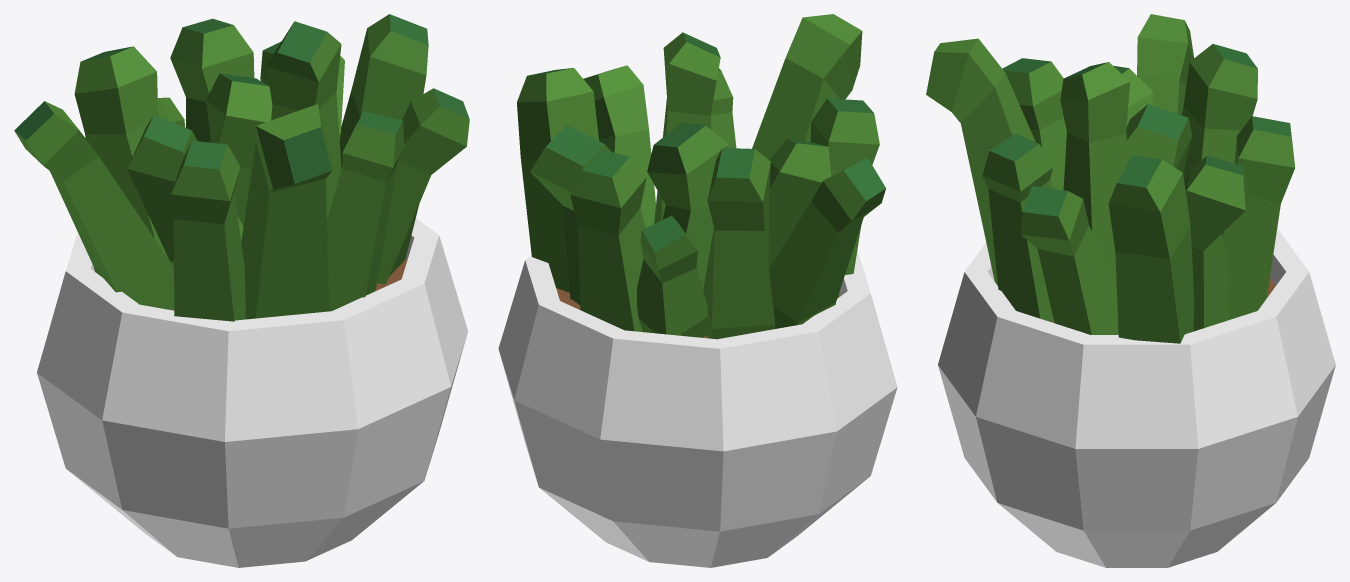
The model's file is furniture-pot-tiny-succulent-c.glb.
3 views of the same model, side by side, from view 1: azimuth 30°, elevation 25°; view 2: azimuth 150°, elevation 25°; view 3: azimuth 270°, elevation 25° (orthographic). The views are drawn at different scales.
Parts seen in each view (by area): view 1: pot-tiny-succulent-c; view 2: pot-tiny-succulent-c; view 3: pot-tiny-succulent-c.
Boxes of the visible parts, x1,y1,x2,y2 form: pot-tiny-succulent-c: [14, 14, 469, 567]; pot-tiny-succulent-c: [498, 14, 897, 567]; pot-tiny-succulent-c: [926, 14, 1335, 567].
Bounding box in the file's own units: 0.1306 × 0.1585 × 0.1236.
